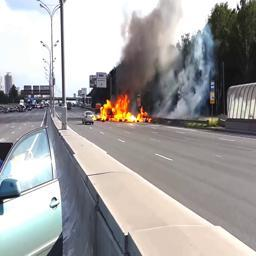fire: (97, 95, 153, 123)
